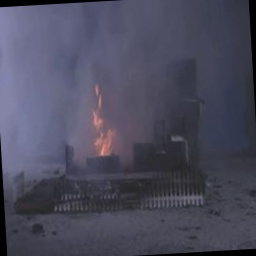fire: (78, 78, 128, 163)
smoke: (0, 0, 194, 106)
